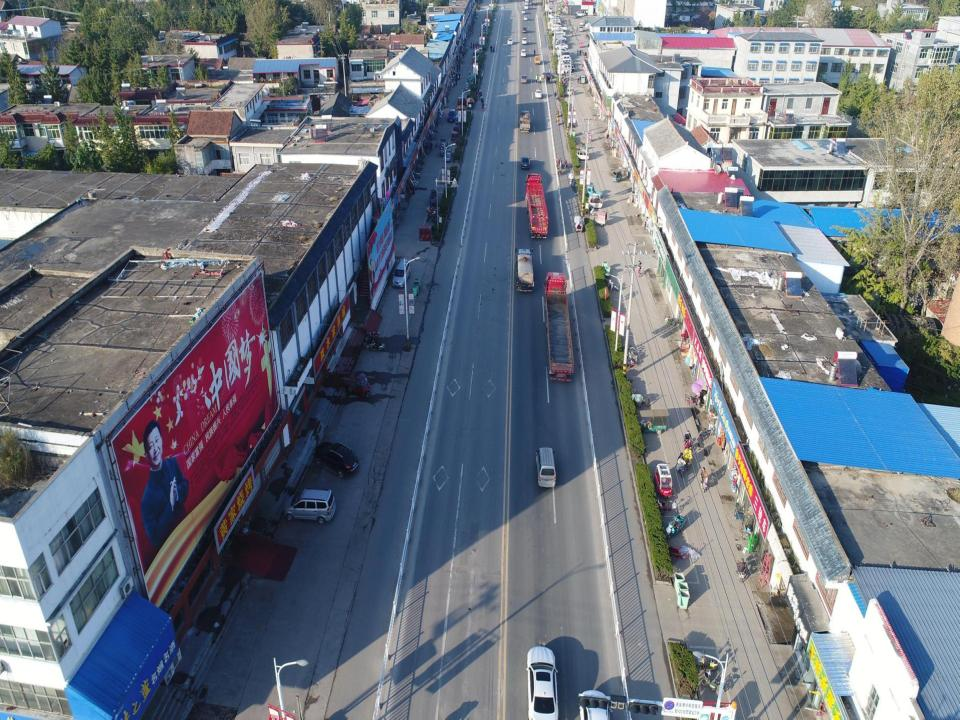car: (524, 644, 564, 719), (281, 486, 336, 524), (309, 442, 360, 480), (392, 258, 410, 288), (519, 156, 531, 170), (447, 107, 456, 123), (541, 71, 554, 80), (575, 9, 585, 18), (520, 73, 528, 84), (520, 48, 528, 58), (535, 87, 542, 98), (584, 32, 594, 39), (507, 38, 514, 46), (521, 36, 528, 44), (480, 25, 487, 32), (522, 25, 527, 33), (523, 14, 528, 21), (573, 12, 578, 19), (521, 8, 526, 14), (524, 2, 528, 9), (579, 26, 583, 32)
truck: (537, 268, 577, 384), (524, 173, 550, 238), (519, 110, 532, 134), (534, 55, 541, 65)
van: (534, 444, 559, 488), (418, 225, 432, 242), (547, 6, 554, 14), (476, 46, 482, 55)
